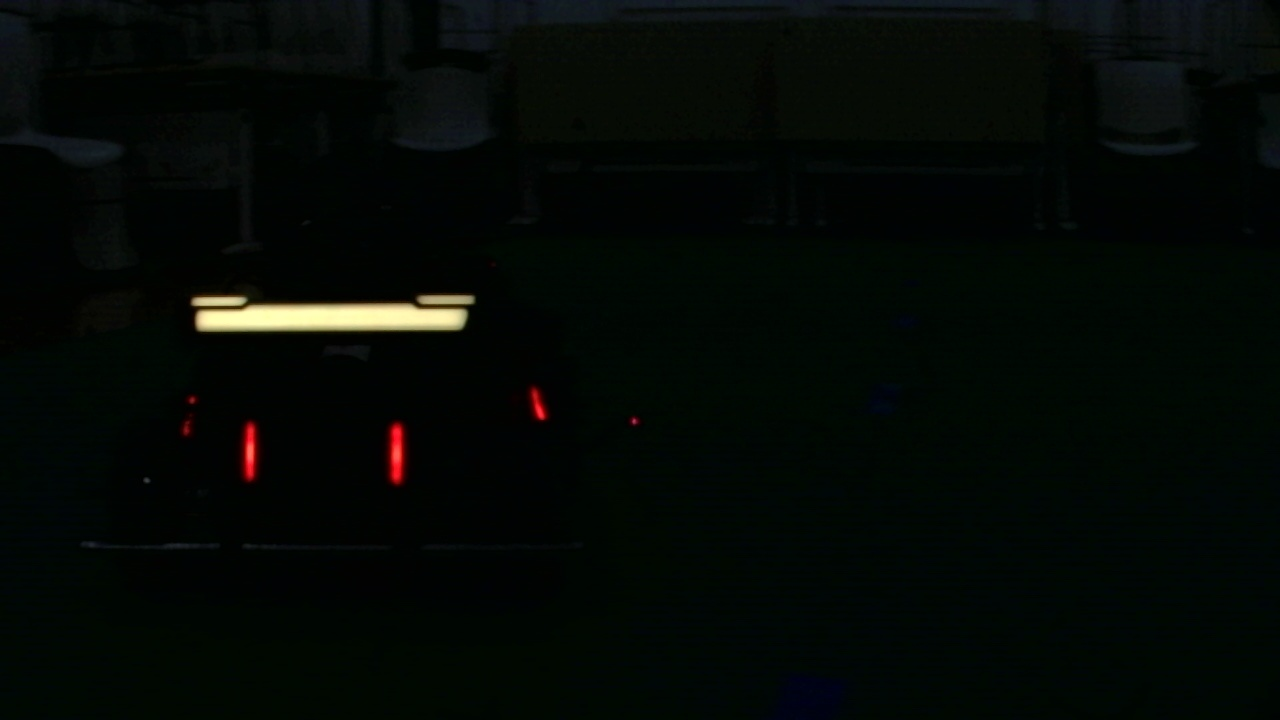lamp: (386, 423, 407, 484), (239, 423, 259, 480)
pair1: (242, 424, 409, 484)
